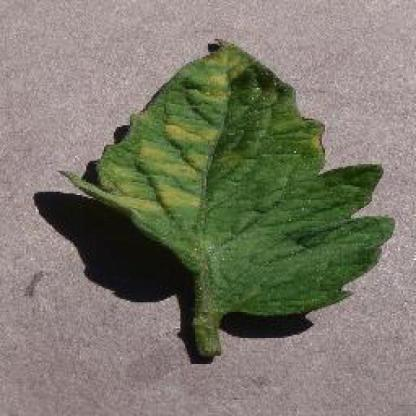Tomato_Leaf_Mold: (60, 38, 393, 316)
